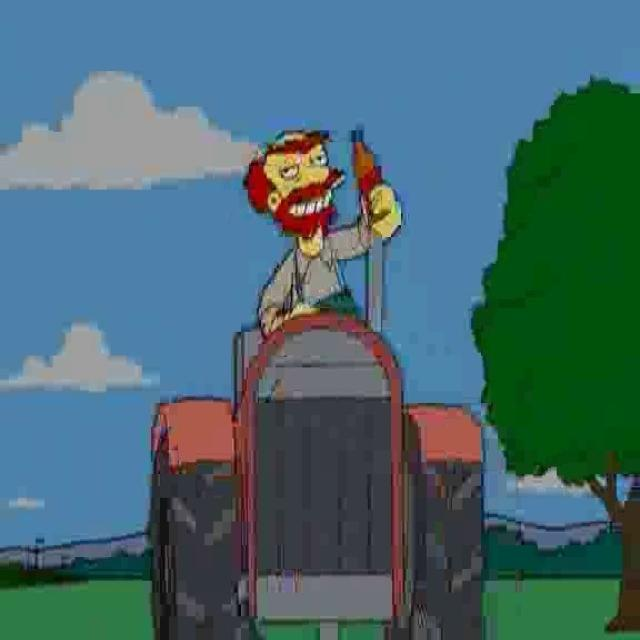Groundskeeper Willie: (240, 123, 347, 244)
